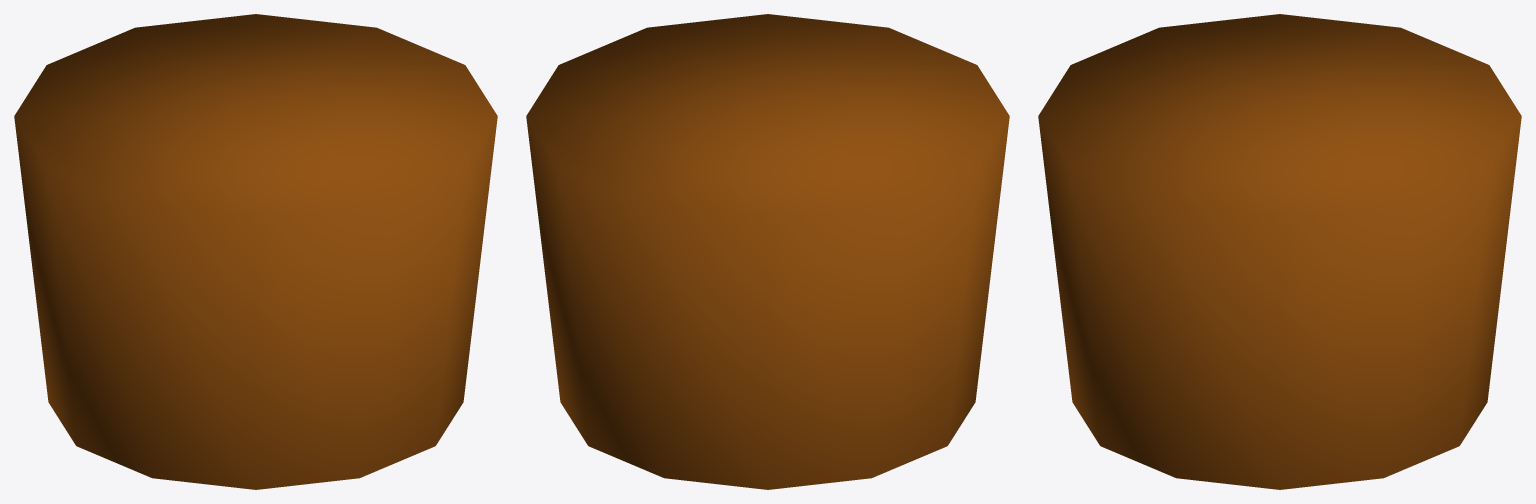
File: copo_um_bebida.fbx
3 views of the same model, side by side, from view 1: azimuth 30°, elevation 25°; view 2: azimuth 150°, elevation 25°; view 3: azimuth 270°, elevation 25° (orthographic).
Parts seen in each view (by area): view 1: copo_um_bebida; view 2: copo_um_bebida; view 3: copo_um_bebida.
Boxes of the visible parts, <box> form: copo_um_bebida: <box>14,14,497,489</box>; copo_um_bebida: <box>526,14,1009,489</box>; copo_um_bebida: <box>1038,14,1521,489</box>.
Bounding box in the file's own units: 6.52 × 4.26 × 6.52.
